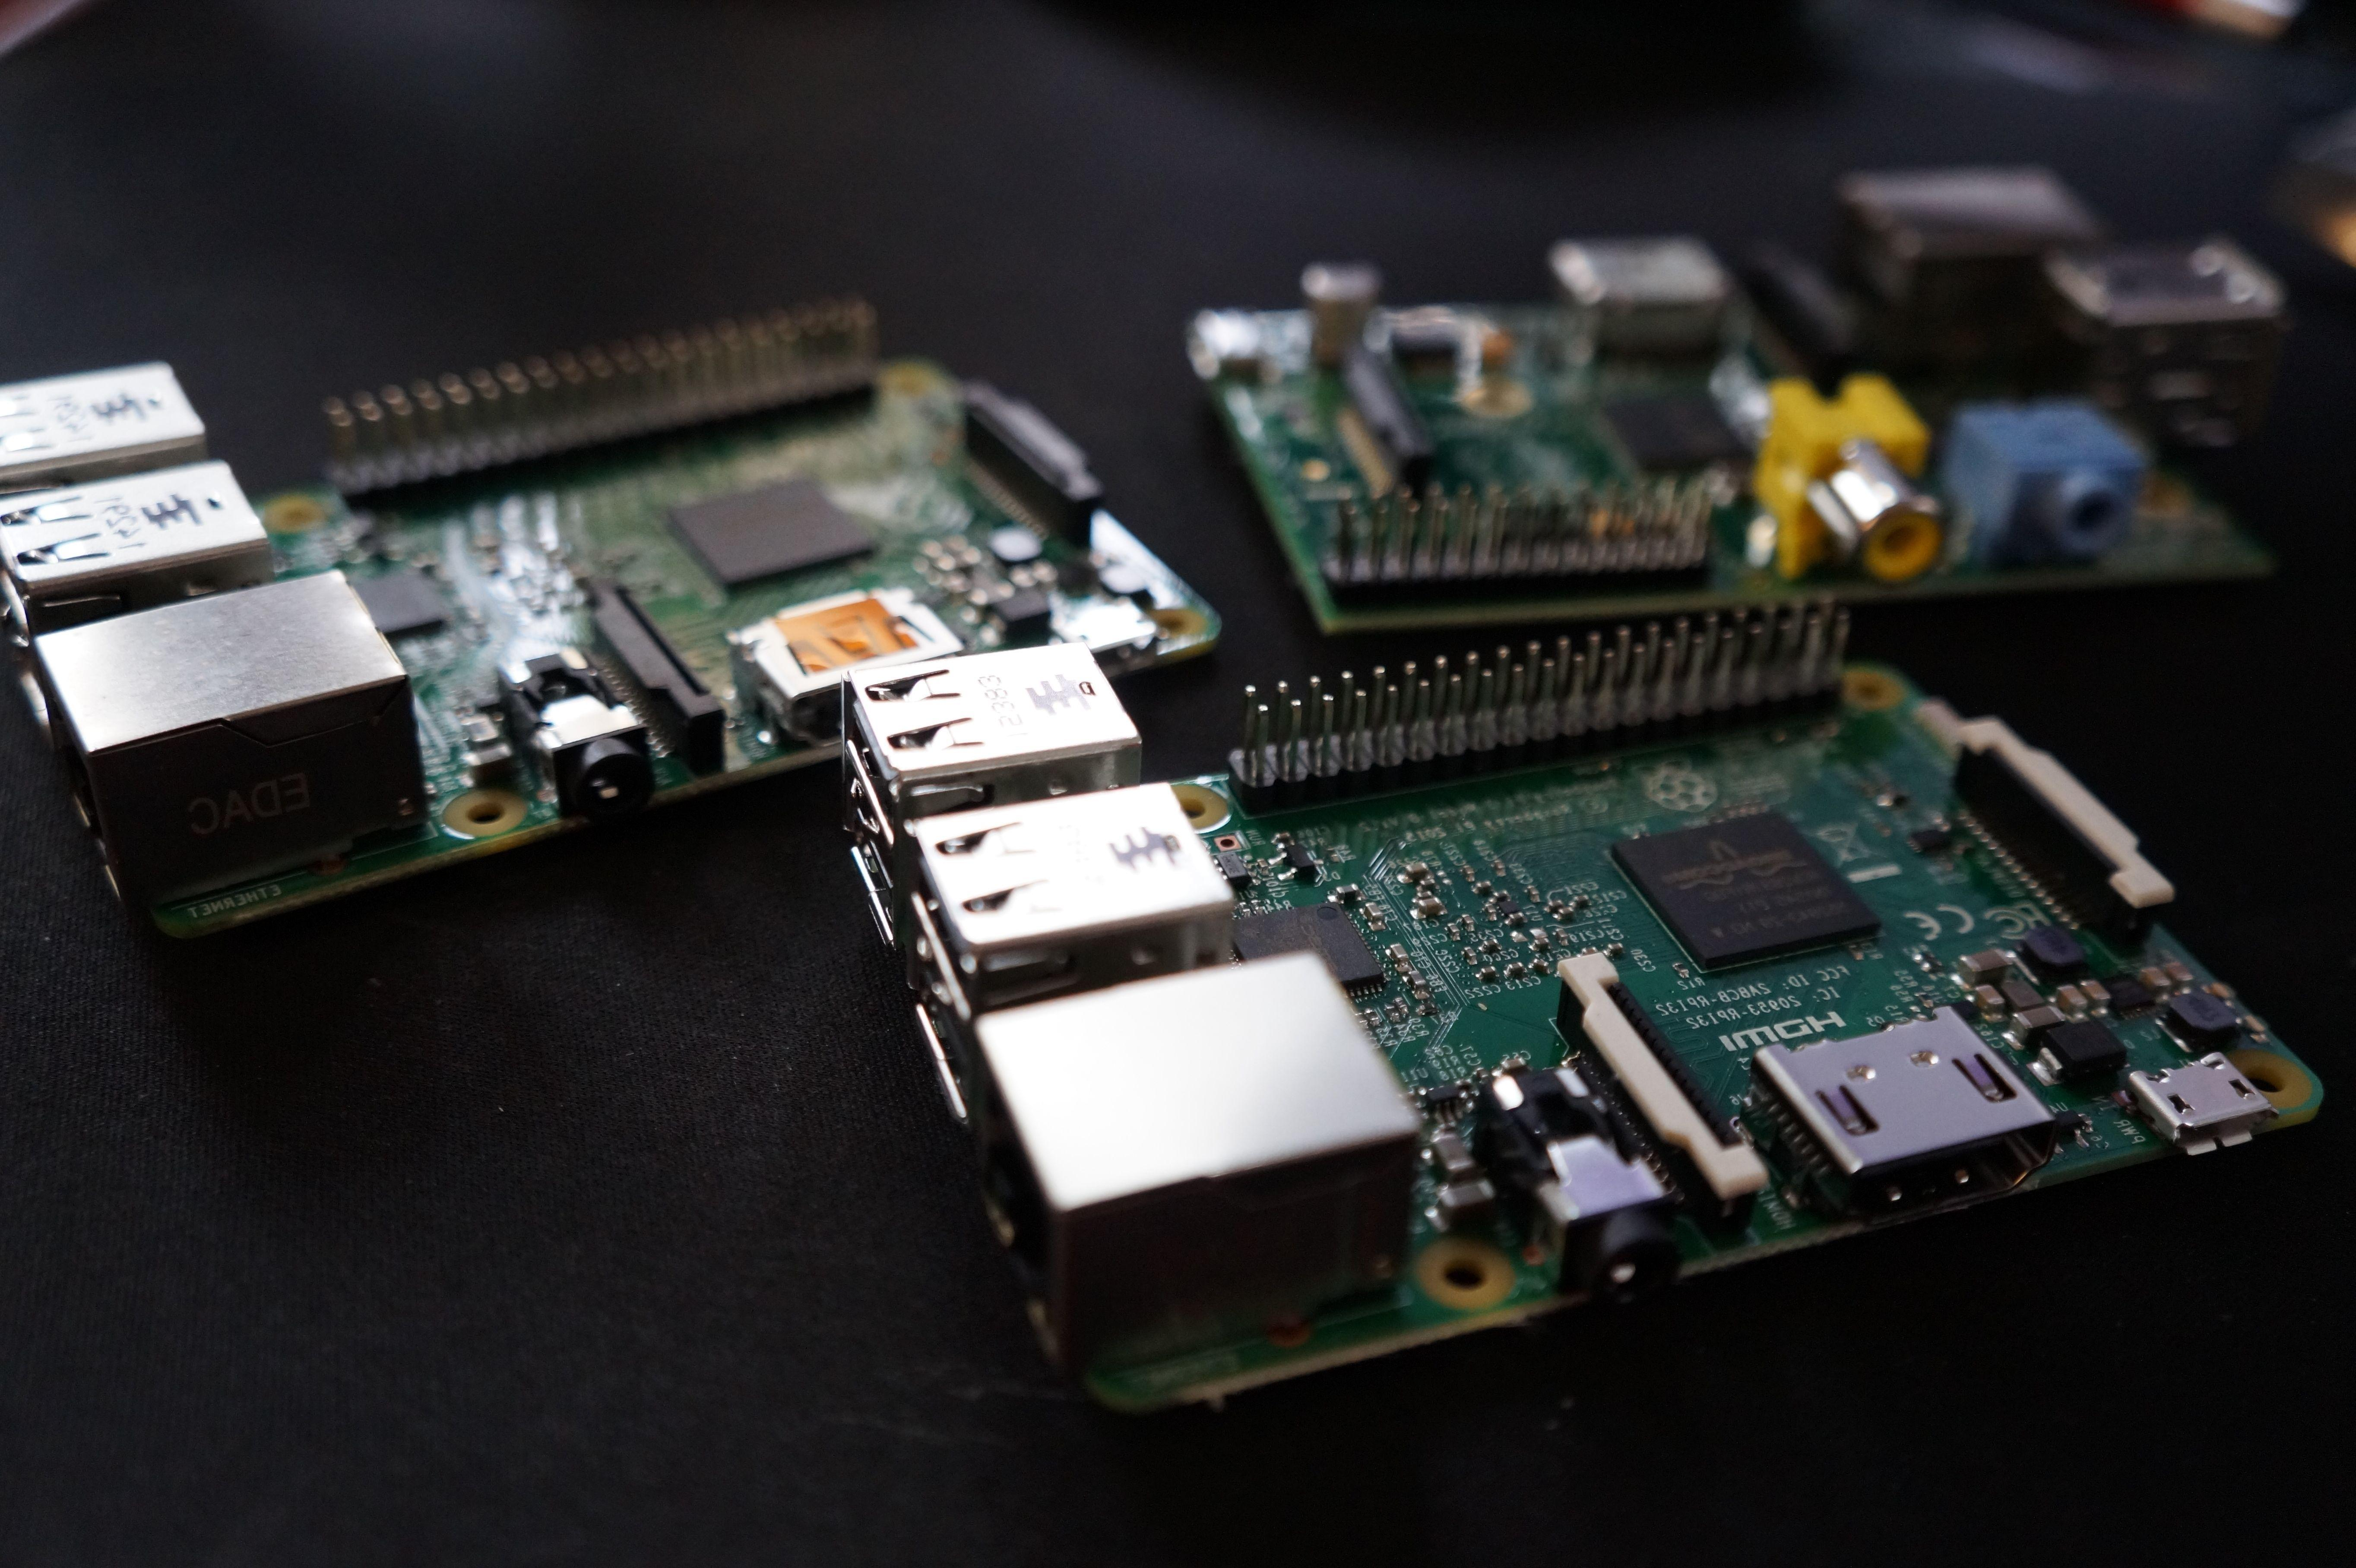audiojack: (1465, 1064, 1677, 1325), (487, 651, 656, 828)
bchi: (1619, 828, 1861, 973)
ethernet: (947, 955, 1421, 1344)
gpio: (1218, 588, 1857, 798), (1320, 478, 1724, 597)
usb: (908, 775, 1229, 942), (835, 646, 1136, 817)
